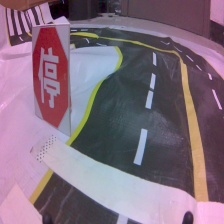stop: (31, 23, 72, 137)
